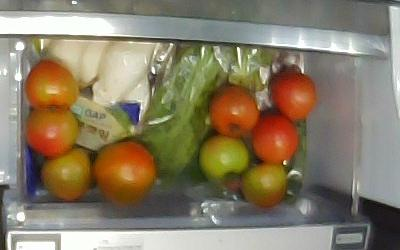tomato: (94, 139, 155, 202), (25, 60, 79, 113), (198, 135, 250, 187), (41, 149, 92, 201), (209, 85, 258, 139), (28, 104, 78, 156), (238, 158, 286, 207), (251, 114, 298, 162), (269, 70, 315, 119)
